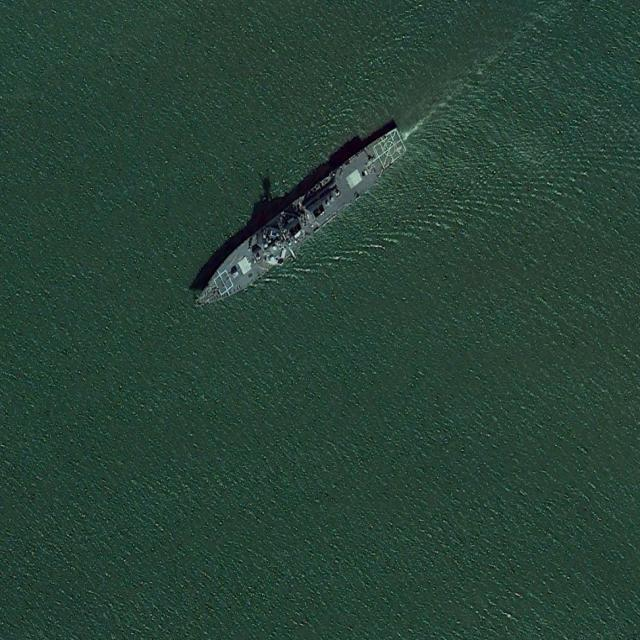Destroyer: (182, 118, 412, 327)
